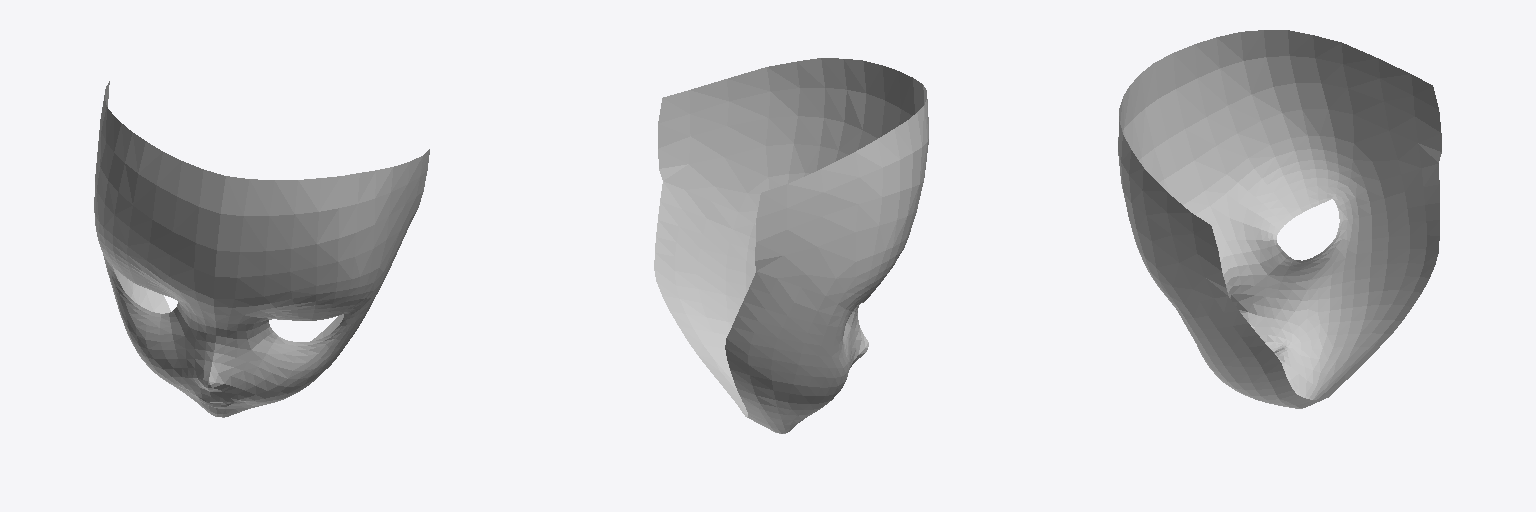
The model's file is furina.001.obj.
The picture shows the model from 3 angles: view 1: azimuth 30°, elevation 25°; view 2: azimuth 150°, elevation 25°; view 3: azimuth 270°, elevation 25°; orthographic projection.
Visible parts, largest first — view 1: furina.001_颜.001; view 2: furina.001_颜.001; view 3: furina.001_颜.001.
Part boxes in pixels (left/top/right/bottom): furina.001_颜.001: left=94, top=81, right=429, bottom=417; furina.001_颜.001: left=654, top=58, right=928, bottom=433; furina.001_颜.001: left=1118, top=30, right=1441, bottom=408.
Bounding box in the file's own units: 0.2932 × 0.3226 × 0.292.